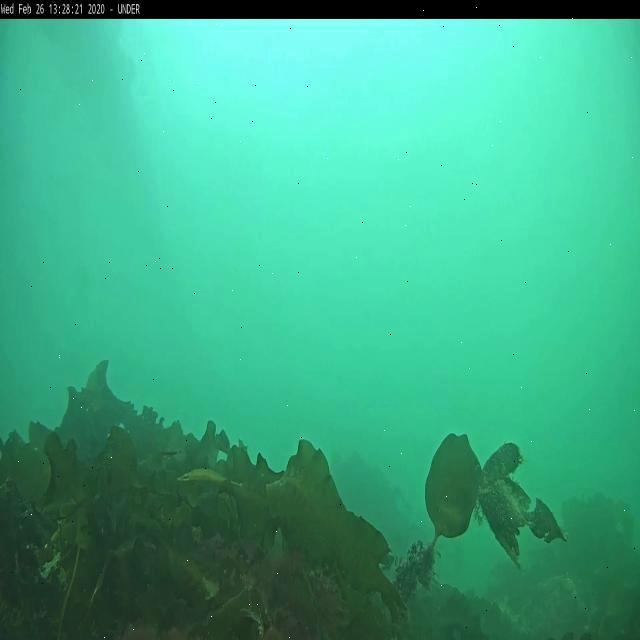fish: (178, 470, 245, 494), (156, 445, 180, 462)
